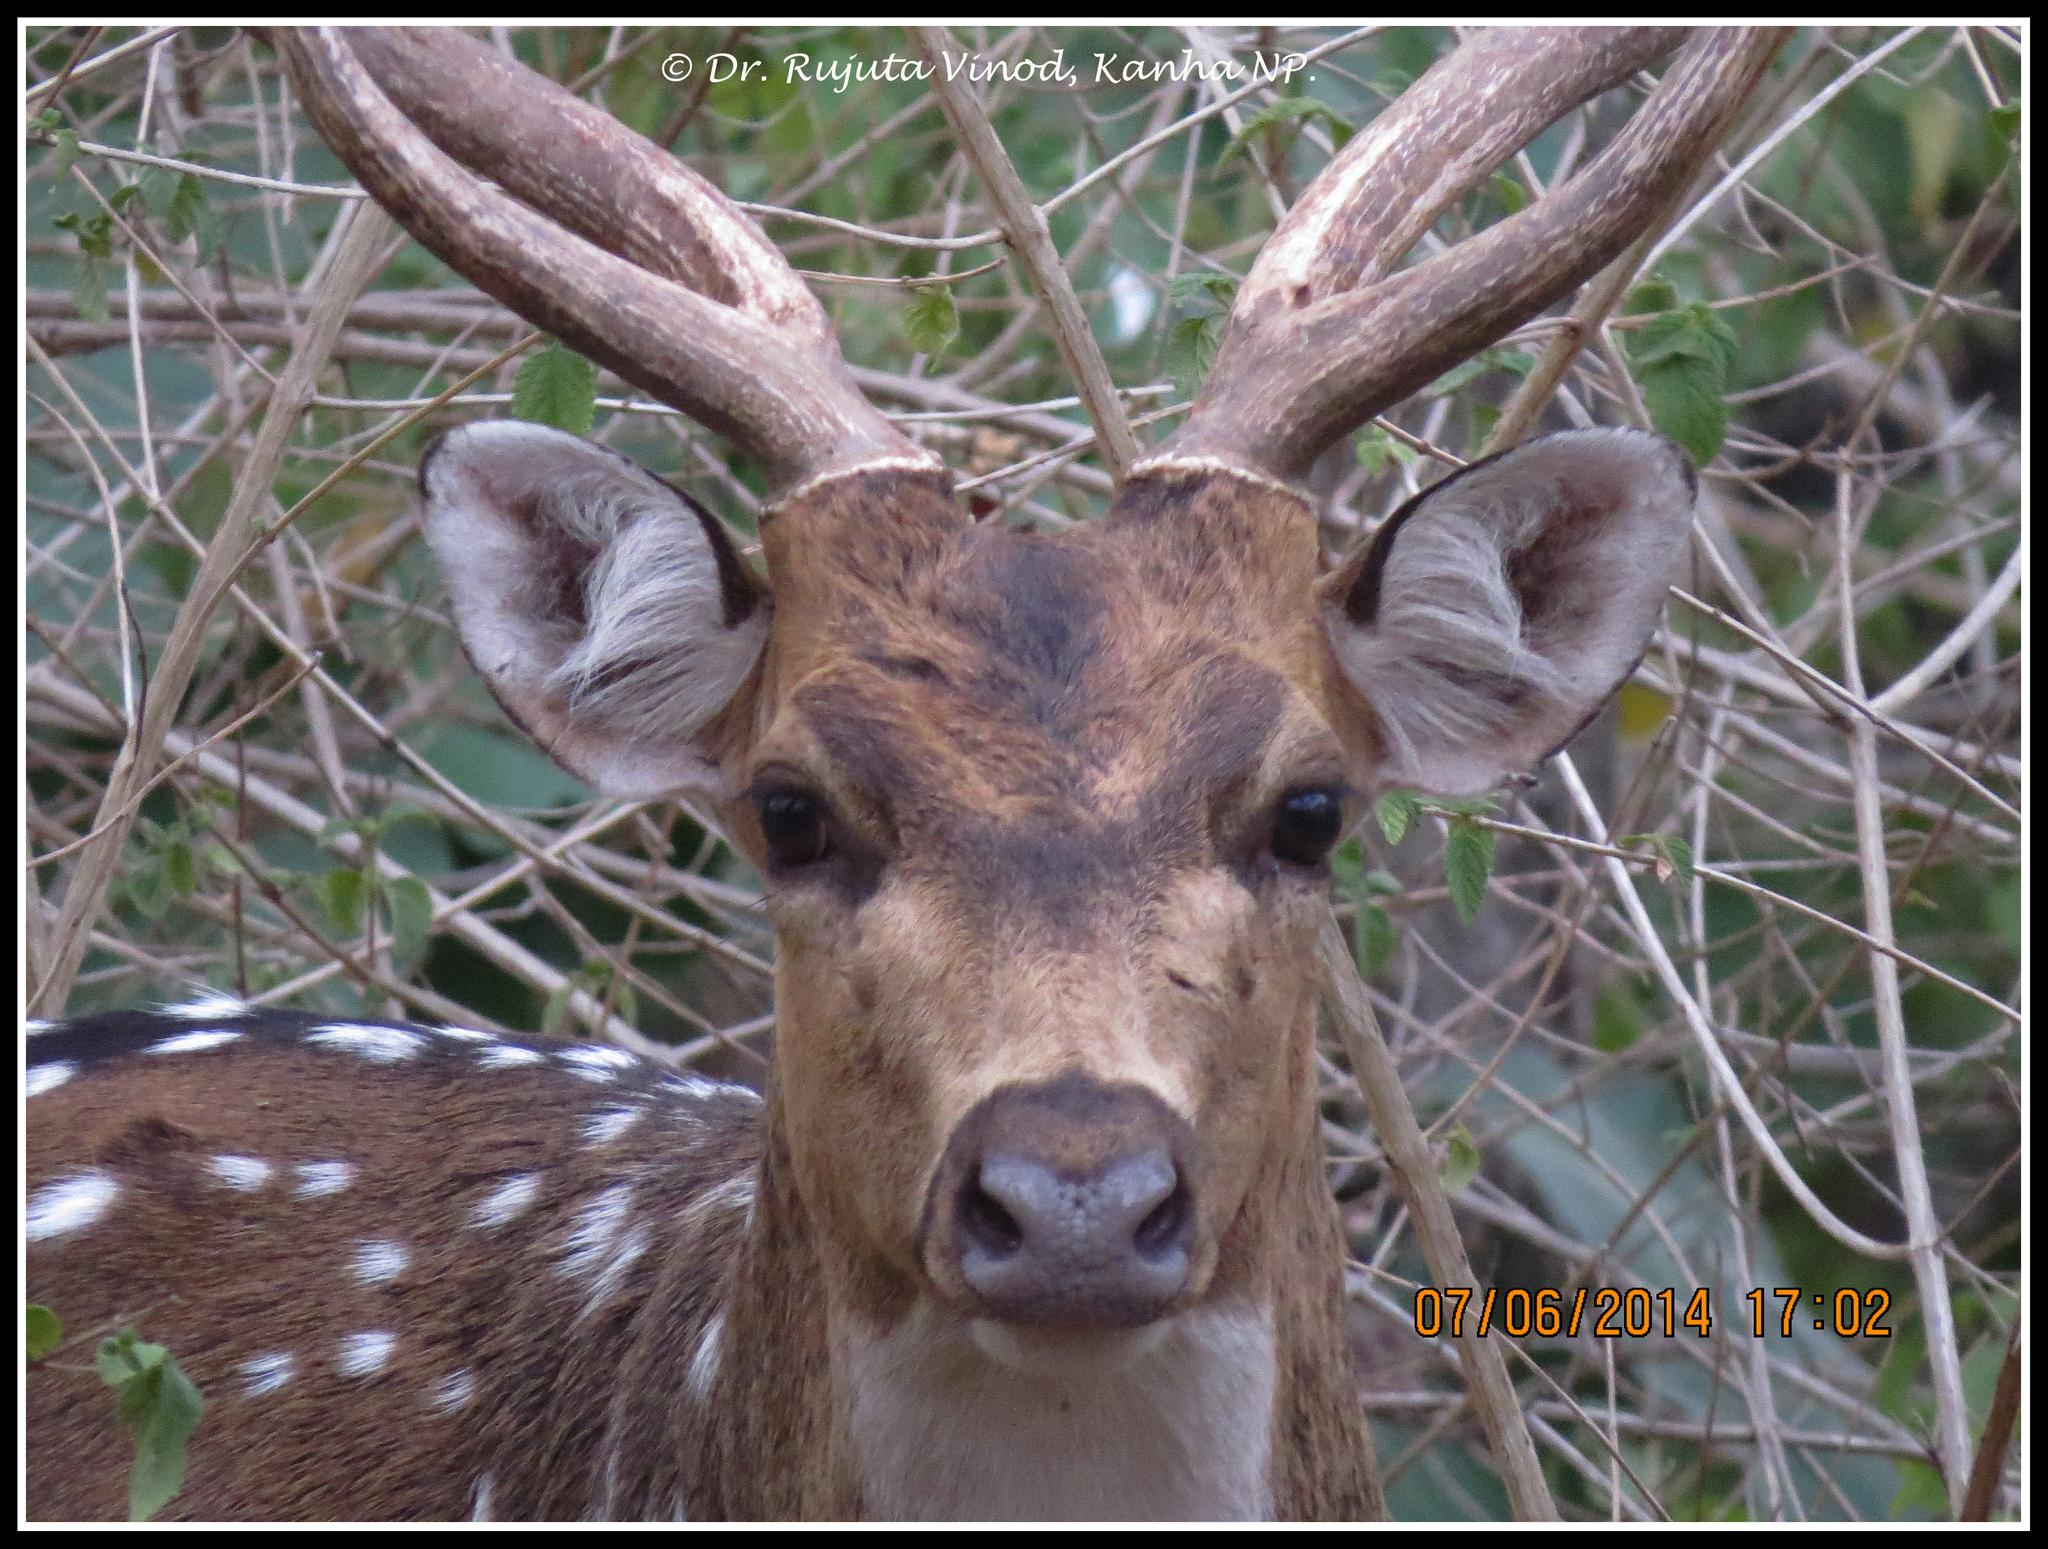Deer: (28, 28, 1770, 1520)
